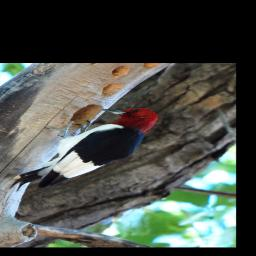Woodpecker: (4, 107, 156, 191)
